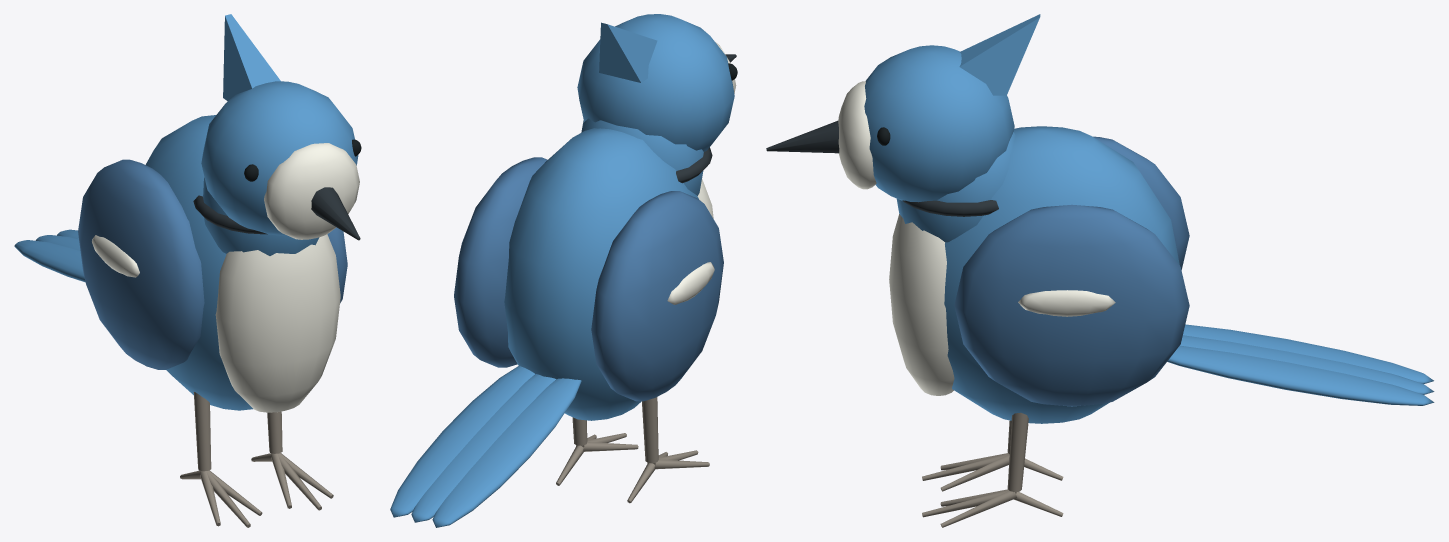
The model's file is bird_blue_jay.glb.
3 renders of one model, left to right at view 1: azimuth 30°, elevation 25°; view 2: azimuth 150°, elevation 25°; view 3: azimuth 270°, elevation 25°, orthographic. The views are drawn at different scales.
Parts seen in each view (by area): view 1: Blue_Jay_Folded_Wing_-1, Blue_Jay_Pale_Breast, Blue_Jay_Head, Blue_Jay_Body, Blue_Jay_White_Face, Blue_Jay_Blue_Crest, Blue_Jay_Neck, Blue_Jay_Long_Tail_Feather_0, Blue_Jay_Black_Bill, Blue_Jay_Leg_-1, Blue_Jay_White_Wing_Bar_-1, Blue_Jay_Black_Neck_Band (+6 smaller); view 2: Blue_Jay_Body, Blue_Jay_Folded_Wing_-1, Blue_Jay_Head, Blue_Jay_Folded_Wing_1, Blue_Jay_Long_Tail_Feather_0, Blue_Jay_Long_Tail_Feather_2, Blue_Jay_Long_Tail_Feather_1, Blue_Jay_Blue_Crest, Blue_Jay_Neck, Blue_Jay_White_Wing_Bar_-1, Blue_Jay_Leg_-1, Blue_Jay_Black_Neck_Band (+2 smaller); view 3: Blue_Jay_Folded_Wing_1, Blue_Jay_Body, Blue_Jay_Head, Blue_Jay_Pale_Breast, Blue_Jay_Long_Tail_Feather_2, Blue_Jay_Blue_Crest, Blue_Jay_Neck, Blue_Jay_Long_Tail_Feather_0, Blue_Jay_White_Face, Blue_Jay_Long_Tail_Feather_1, Blue_Jay_Folded_Wing_-1, Blue_Jay_White_Wing_Bar_1 (+3 smaller).
Part boxes in pixels (x1=…): Blue_Jay_Folded_Wing_-1: x1=78, y1=159, x2=204, y2=369; Blue_Jay_Pale_Breast: x1=215, y1=234, x2=340, y2=412; Blue_Jay_Head: x1=201, y1=81, x2=358, y2=235; Blue_Jay_Body: x1=145, y1=115, x2=252, y2=410; Blue_Jay_White_Face: x1=264, y1=143, x2=359, y2=239; Blue_Jay_Blue_Crest: x1=223, y1=14, x2=280, y2=101; Blue_Jay_Neck: x1=203, y1=177, x2=319, y2=255; Blue_Jay_Long_Tail_Feather_0: x1=14, y1=240, x2=85, y2=282; Blue_Jay_Black_Bill: x1=311, y1=187, x2=360, y2=240; Blue_Jay_Leg_-1: x1=193, y1=392, x2=211, y2=471; Blue_Jay_White_Wing_Bar_-1: x1=92, y1=235, x2=139, y2=277; Blue_Jay_Black_Neck_Band: x1=193, y1=195, x2=267, y2=234; Blue_Jay_Body: x1=504, y1=128, x2=698, y2=420; Blue_Jay_Folded_Wing_-1: x1=591, y1=191, x2=723, y2=401; Blue_Jay_Head: x1=577, y1=14, x2=734, y2=151; Blue_Jay_Folded_Wing_1: x1=454, y1=157, x2=547, y2=367; Blue_Jay_Long_Tail_Feather_0: x1=432, y1=378, x2=581, y2=527; Blue_Jay_Long_Tail_Feather_2: x1=390, y1=365, x2=534, y2=517; Blue_Jay_Long_Tail_Feather_1: x1=411, y1=374, x2=556, y2=522; Blue_Jay_Blue_Crest: x1=599, y1=22, x2=657, y2=82; Blue_Jay_Neck: x1=581, y1=118, x2=703, y2=195; Blue_Jay_White_Wing_Bar_-1: x1=667, y1=262, x2=714, y2=304; Blue_Jay_Leg_-1: x1=642, y1=397, x2=658, y2=463; Blue_Jay_Black_Neck_Band: x1=676, y1=147, x2=712, y2=183; Blue_Jay_Folded_Wing_1: x1=954, y1=204, x2=1189, y2=406; Blue_Jay_Body: x1=944, y1=126, x2=1179, y2=423; Blue_Jay_Head: x1=864, y1=45, x2=1014, y2=202; Blue_Jay_Pale_Breast: x1=889, y1=214, x2=954, y2=395; Blue_Jay_Long_Tail_Feather_2: x1=1167, y1=345, x2=1434, y2=405; Blue_Jay_Blue_Crest: x1=959, y1=14, x2=1040, y2=95; Blue_Jay_Neck: x1=896, y1=132, x2=1015, y2=242; Blue_Jay_Long_Tail_Feather_0: x1=1183, y1=324, x2=1433, y2=383; Blue_Jay_White_Face: x1=838, y1=81, x2=876, y2=189; Blue_Jay_Long_Tail_Feather_1: x1=1180, y1=335, x2=1434, y2=394; Blue_Jay_Folded_Wing_-1: x1=1093, y1=136, x2=1189, y2=269; Blue_Jay_White_Wing_Bar_1: x1=1018, y1=290, x2=1115, y2=316.
Bounding box in the file's own units: 0.162 × 0.3355 × 0.4202.
